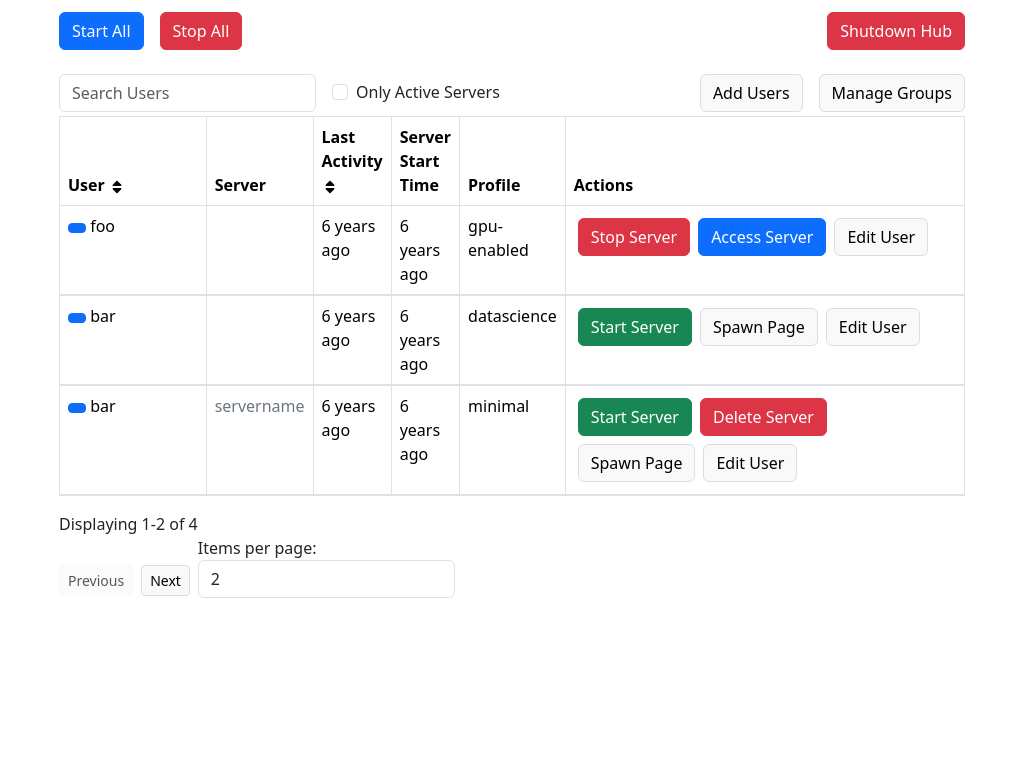
it: Start server and confirm pending state
Check: the button "Spawn Page" in the row of "datascience" is shown, box left=700, top=308, right=818, bottom=346
Check: the button "Edit User" in the row of "datascience" is shown, box left=826, top=308, right=920, bottom=346
Click the button "Start Server" next to "datascience": (635, 327) left=578, top=308, right=692, bottom=346
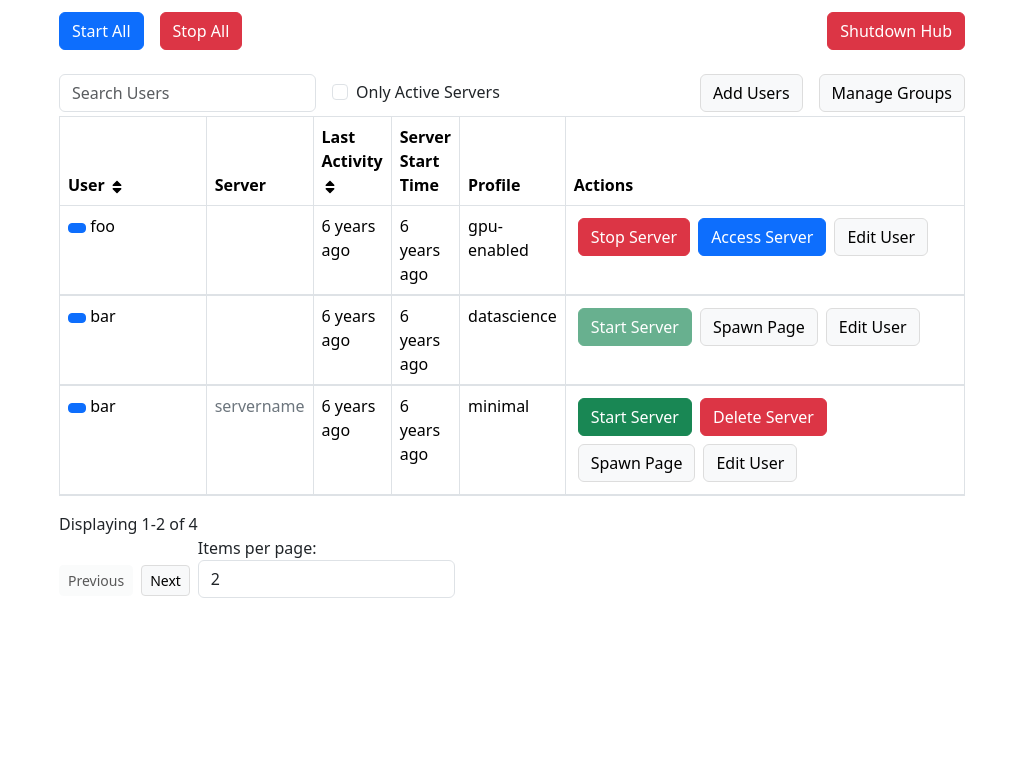
Check: the button "Spawn Page" in the row of "datascience" is shown, box left=700, top=308, right=818, bottom=346
Check: the button "Start Server" next to "datascience" is disabled, box left=578, top=308, right=692, bottom=346
